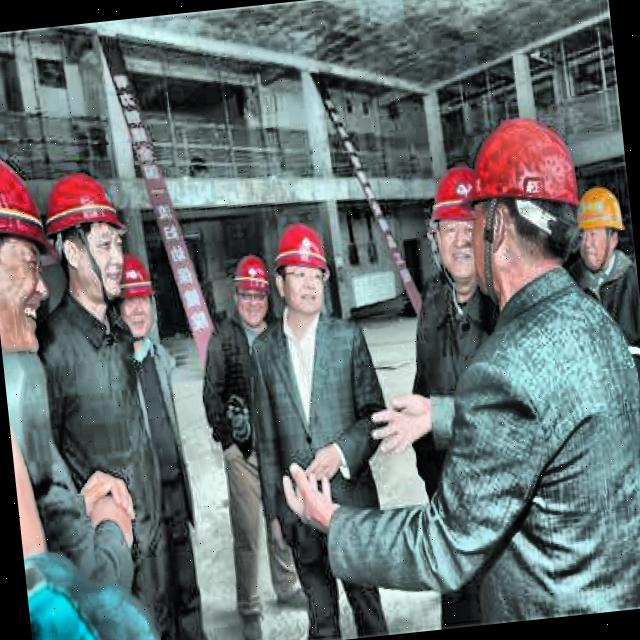helmet: (460, 109, 590, 302), (0, 136, 62, 375), (42, 172, 129, 295), (266, 216, 336, 326), (424, 172, 484, 282), (572, 185, 628, 269), (111, 252, 158, 334), (228, 251, 276, 324)
